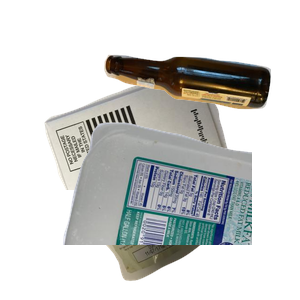glass: (101, 52, 300, 154)
paper: (42, 68, 275, 248)
plastic: (60, 120, 300, 300)
trash: (84, 126, 291, 300)
